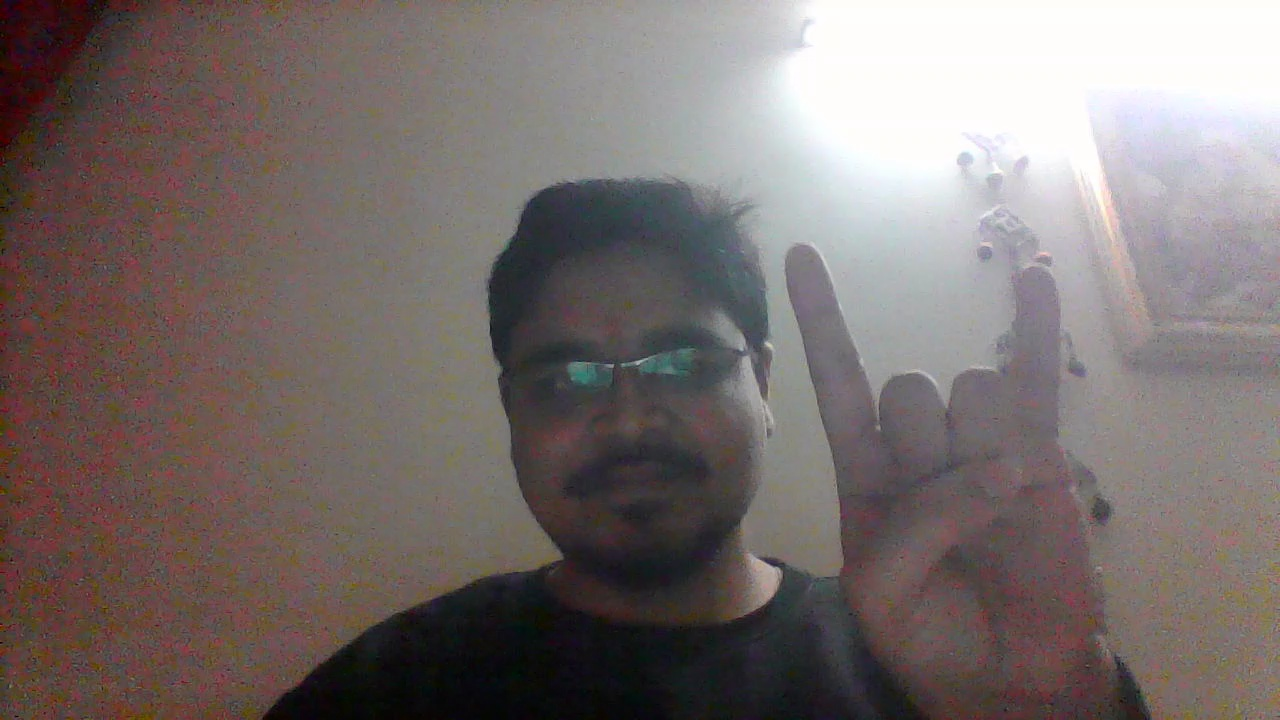ILoveYou: (781, 241, 1102, 685)
